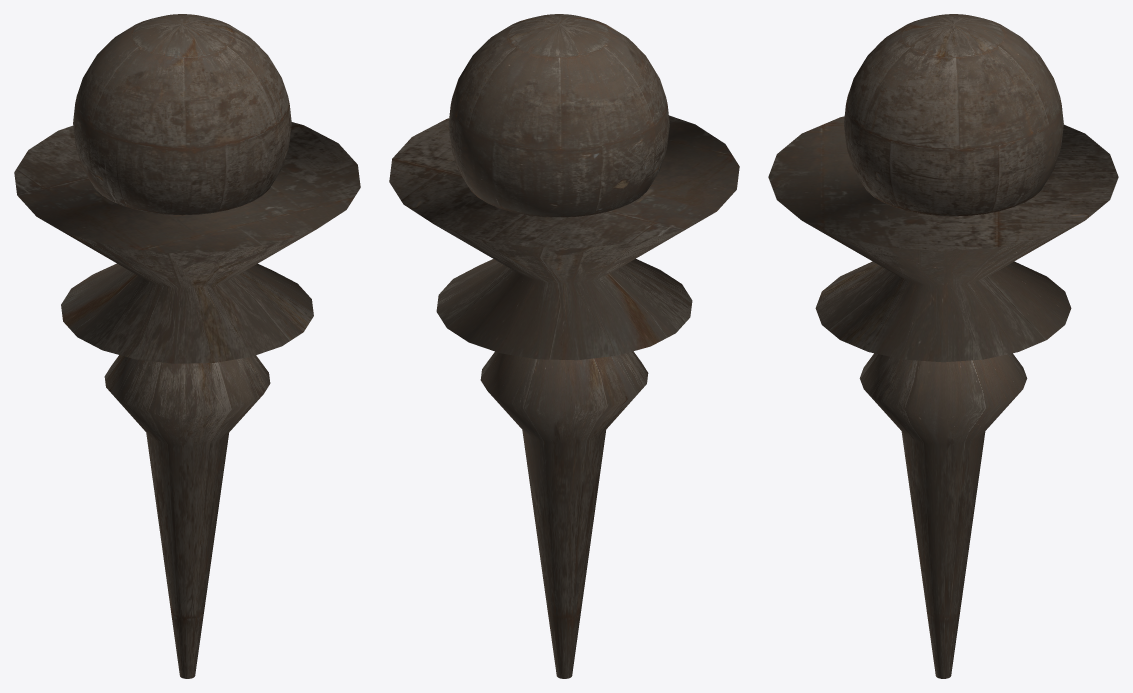
File: Torch.glb
3 views of the same model, side by side, from view 1: azimuth 30°, elevation 25°; view 2: azimuth 150°, elevation 25°; view 3: azimuth 270°, elevation 25° (orthographic).
Parts seen in each view (by area): view 1: Cylinder; view 2: Cylinder; view 3: Cylinder.
Boxes of the visible parts, box(x1,y1,x2,y2) form: Cylinder: box(14, 14, 360, 678); Cylinder: box(389, 14, 739, 678); Cylinder: box(768, 14, 1118, 678).
Bounding box in the file's own units: 0.6369 × 1.31 × 0.6369.
Materials: 1 (1 with a texture image).
